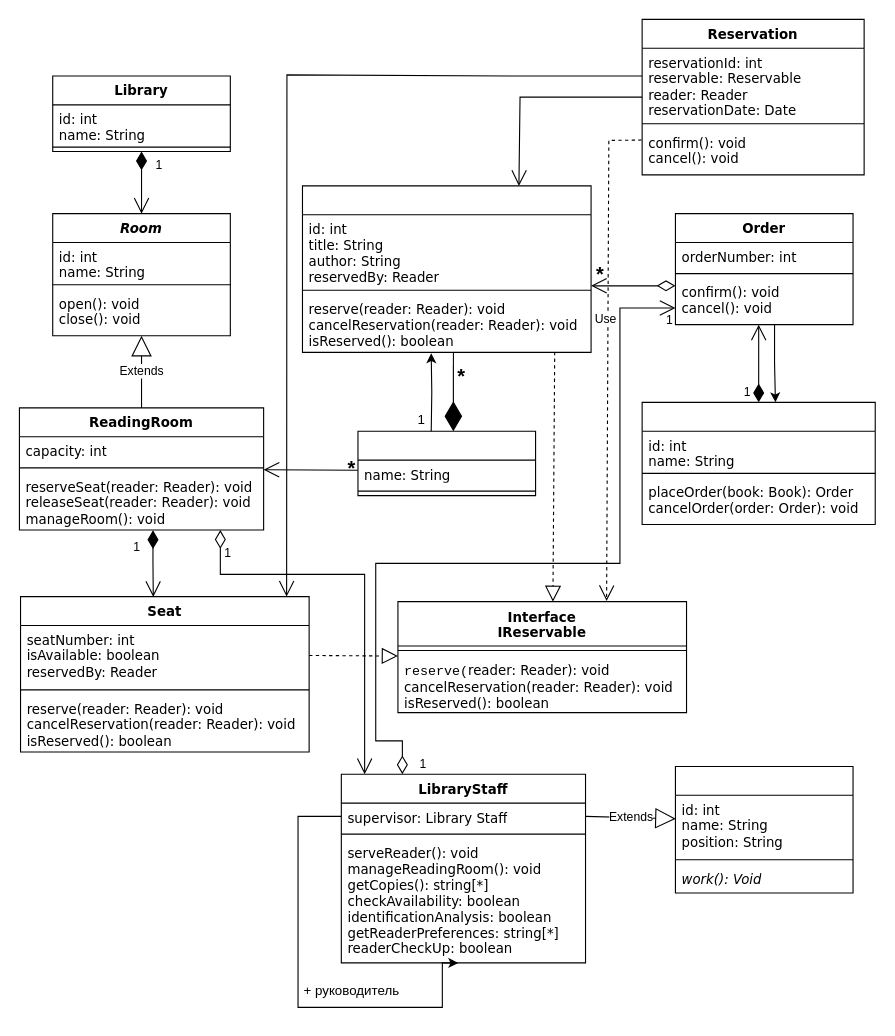
Some shapes in this 895 by 1036 pixel diagram are drawn without their labels. The box of each missing label's shape, as (x1, y1, x2, y2) in pixels:
Book: (301, 185, 591, 352)
Category: (357, 430, 536, 496)
Reader: (641, 401, 875, 524)
Staff: (674, 765, 853, 893)
